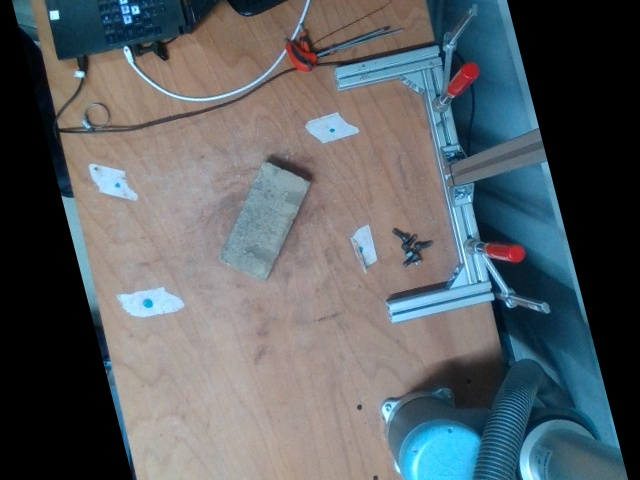brick: (221, 161, 306, 277)
